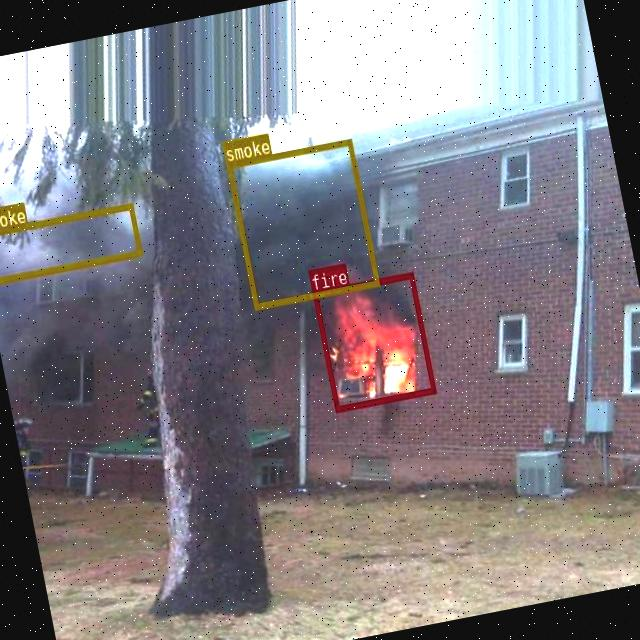fire: (312, 272, 436, 412)
smoke: (226, 138, 380, 310), (0, 202, 142, 284)
